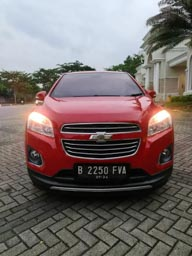plat: (74, 163, 127, 175)
